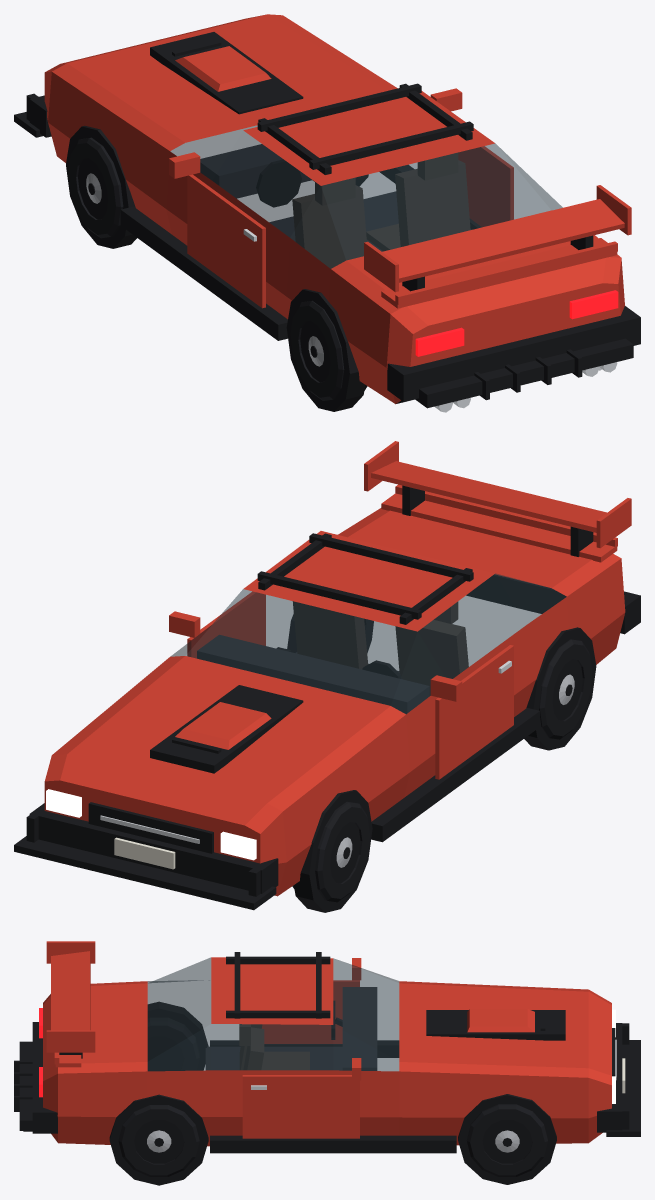
Rendered from muscle.glb.
The picture shows the model from 3 angles, top to bottom: view 1: azimuth 30°, elevation 25°; view 2: azimuth 150°, elevation 25°; view 3: azimuth 270°, elevation 25°; orthographic projection. The views are drawn at different scales.
Visible parts, largest first — view 1: muscle, muscle_door_fl, muscle_wheel_fl, muscle_wheel_rl, muscle_door_fr; view 2: muscle, muscle_door_fl, muscle_wheel_fl, muscle_wheel_rl, muscle_door_fr; view 3: muscle, muscle_door_fr, muscle_wheel_fr, muscle_wheel_rr, muscle_wheel_rl, muscle_door_fl.
Part boxes in pixels (left/top/right/bottom): muscle: left=14, top=14, right=640, bottom=412; muscle_door_fl: left=187, top=174, right=265, bottom=308; muscle_wheel_fl: left=68, top=137, right=123, bottom=238; muscle_wheel_rl: left=290, top=300, right=367, bottom=400; muscle_door_fr: left=458, top=146, right=513, bottom=227; muscle: left=14, top=441, right=640, bottom=912; muscle_door_fl: left=435, top=645, right=513, bottom=779; muscle_wheel_fl: left=292, top=801, right=369, bottom=902; muscle_wheel_rl: left=539, top=639, right=592, bottom=739; muscle_door_fr: left=187, top=591, right=265, bottom=658; muscle: left=14, top=941, right=640, bottom=1185; muscle_door_fr: left=242, top=1075, right=359, bottom=1138; muscle_wheel_fr: left=466, top=1104, right=547, bottom=1176; muscle_wheel_rr: left=118, top=1105, right=199, bottom=1176; muscle_wheel_rl: left=147, top=1017, right=199, bottom=1071; muscle_door_fl: left=262, top=980, right=359, bottom=1043.
Bounding box in the file's own units: 2.24 × 1.48 × 5.4.
